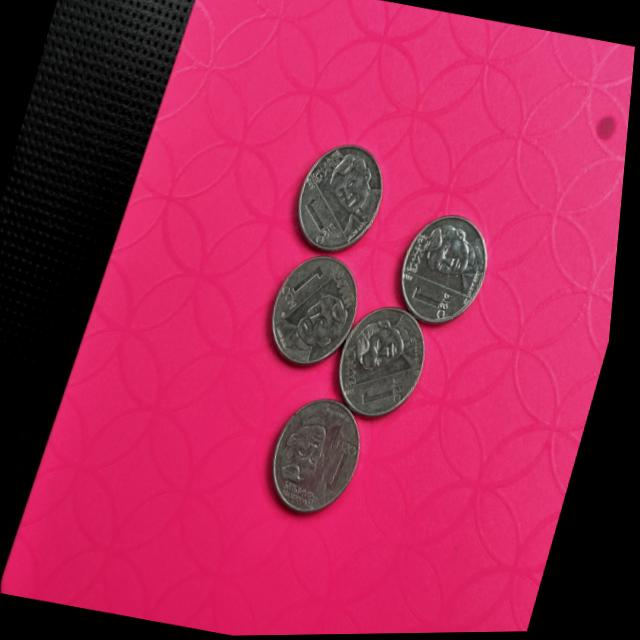1_New_Front: (399, 273, 468, 332), (295, 191, 354, 247), (357, 367, 421, 414), (328, 433, 374, 497), (282, 257, 332, 312)
